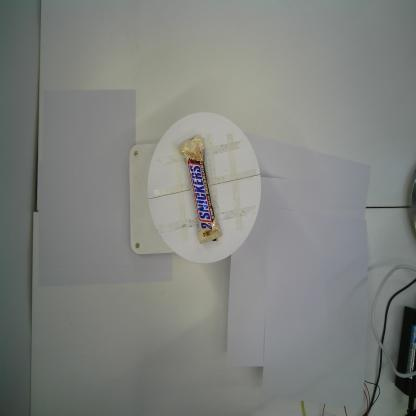Chocolate: (178, 132, 224, 247)
